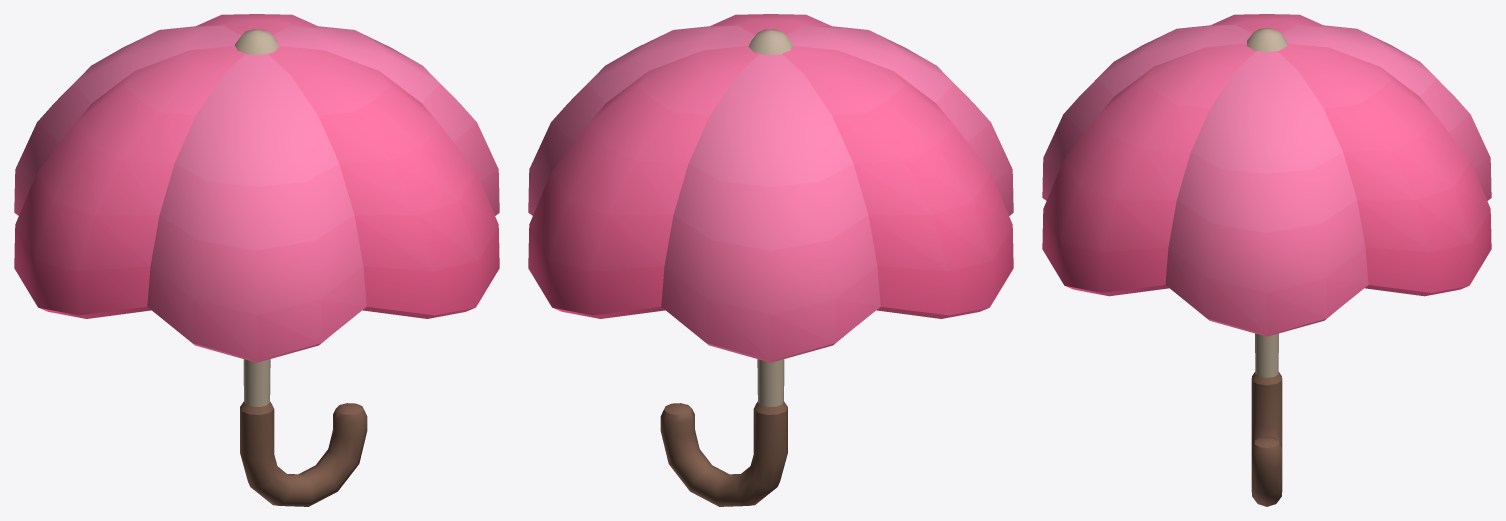
3 renders of one model, left to right at view 1: azimuth 30°, elevation 25°; view 2: azimuth 150°, elevation 25°; view 3: azimuth 270°, elevation 25°, orthographic. The views are drawn at different scales.
Parts seen in each view (by area): view 1: umbrella_pink; view 2: umbrella_pink; view 3: umbrella_pink.
Part boxes in pixels (x1=…): umbrella_pink: x1=14, y1=14, x2=499, y2=506; umbrella_pink: x1=528, y1=14, x2=1013, y2=506; umbrella_pink: x1=1042, y1=14, x2=1491, y2=506.
Bounding box in the file's own units: 0.8584 × 0.9 × 0.8139.
